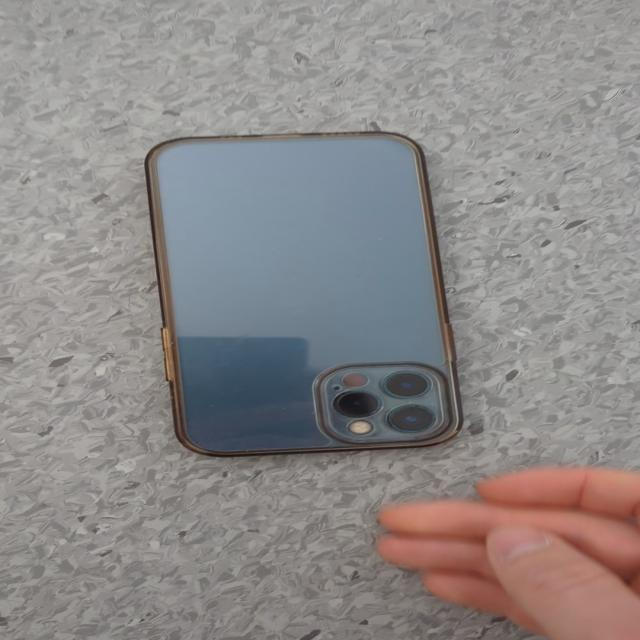phone: (143, 131, 463, 457)
